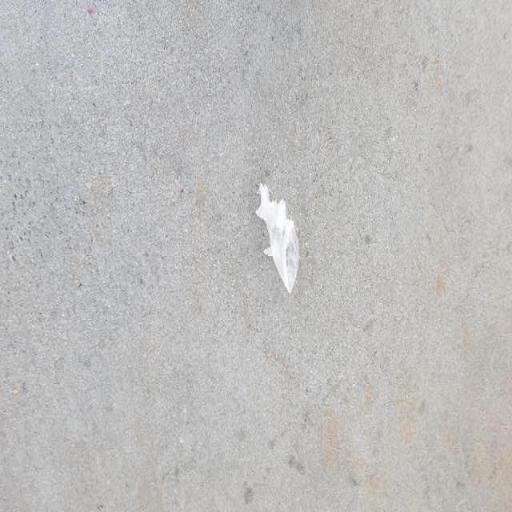plastic-bag: (254, 174, 301, 296)
